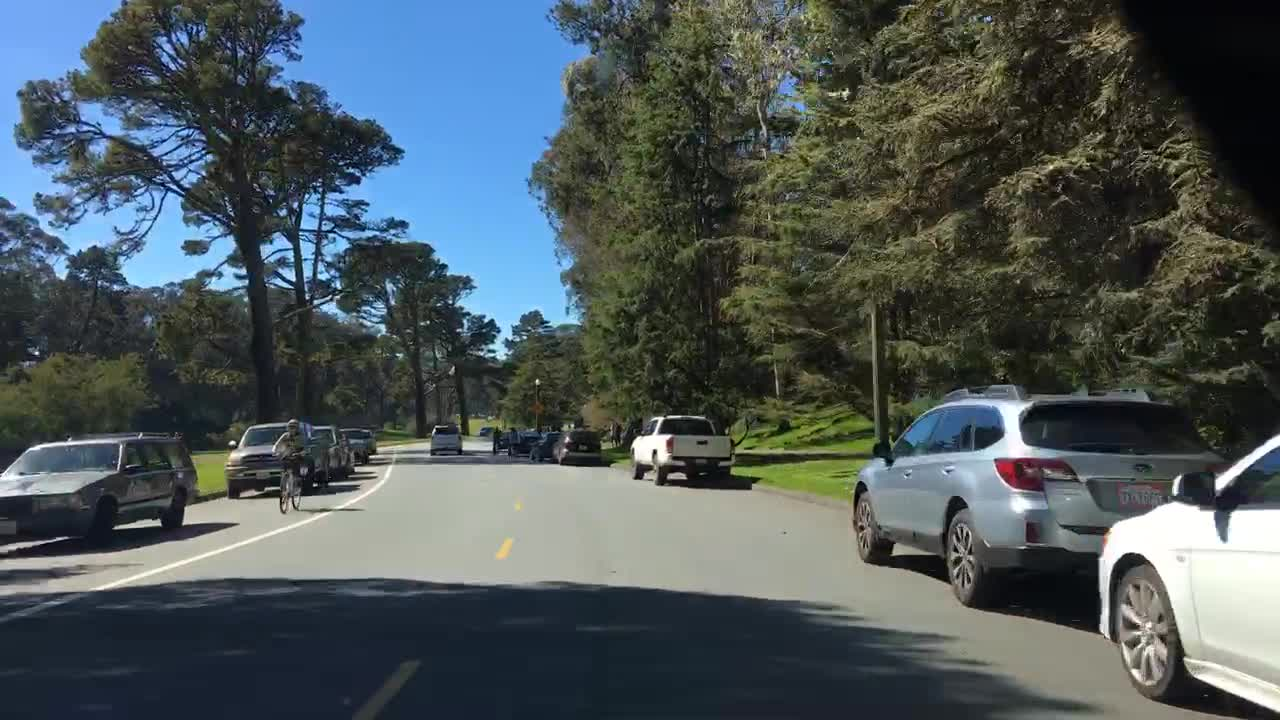bike: (269, 449, 306, 513)
car: (851, 385, 1234, 607), (1097, 436, 1278, 717), (0, 429, 199, 544), (223, 423, 331, 500), (312, 425, 356, 478), (551, 426, 604, 466), (340, 427, 371, 463), (428, 424, 464, 455), (507, 427, 542, 458), (529, 429, 564, 460), (492, 427, 518, 452), (362, 429, 378, 454), (478, 425, 494, 438)
person: (614, 422, 624, 449), (608, 423, 615, 447)
rider: (273, 418, 308, 484)
truck: (628, 413, 733, 487)
